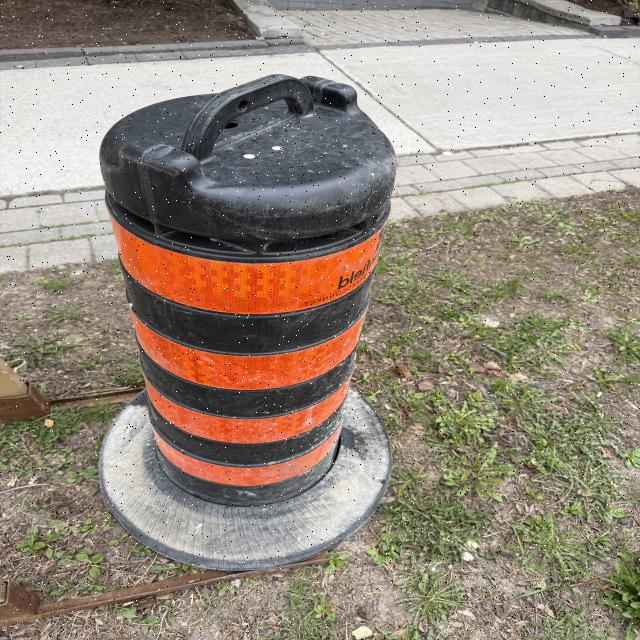Teraffic Barrel: (100, 76, 395, 568)
